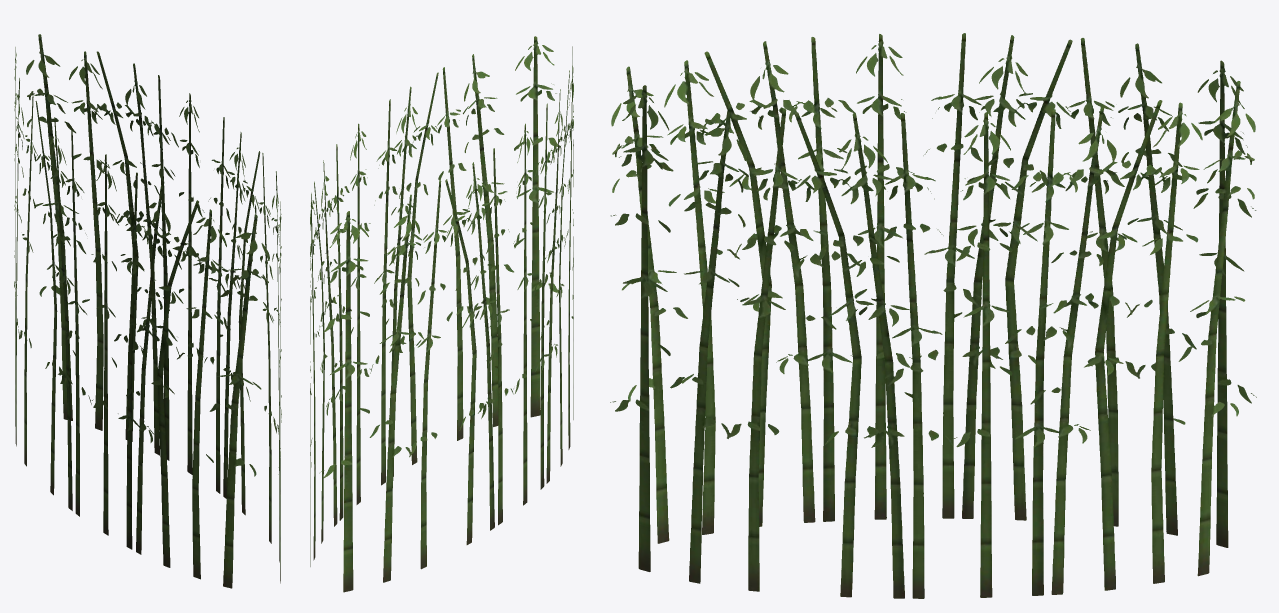
3 views of the same model, side by side, from view 1: azimuth 30°, elevation 25°; view 2: azimuth 150°, elevation 25°; view 3: azimuth 270°, elevation 25° (orthographic). The views are drawn at different scales.
Parts seen in each view (by area): view 1: body0_model0_lod0_mesh0; view 2: body0_model0_lod0_mesh0; view 3: body0_model0_lod0_mesh0.
Part boxes in pixels (x1,y1,x2,y2): body0_model0_lod0_mesh0: [14, 34, 281, 588]; body0_model0_lod0_mesh0: [310, 36, 573, 592]; body0_model0_lod0_mesh0: [610, 33, 1256, 598].
Size of the model in its own units: 73.54 by 215 by 256.
Materials: 1 (1 with a texture image).
